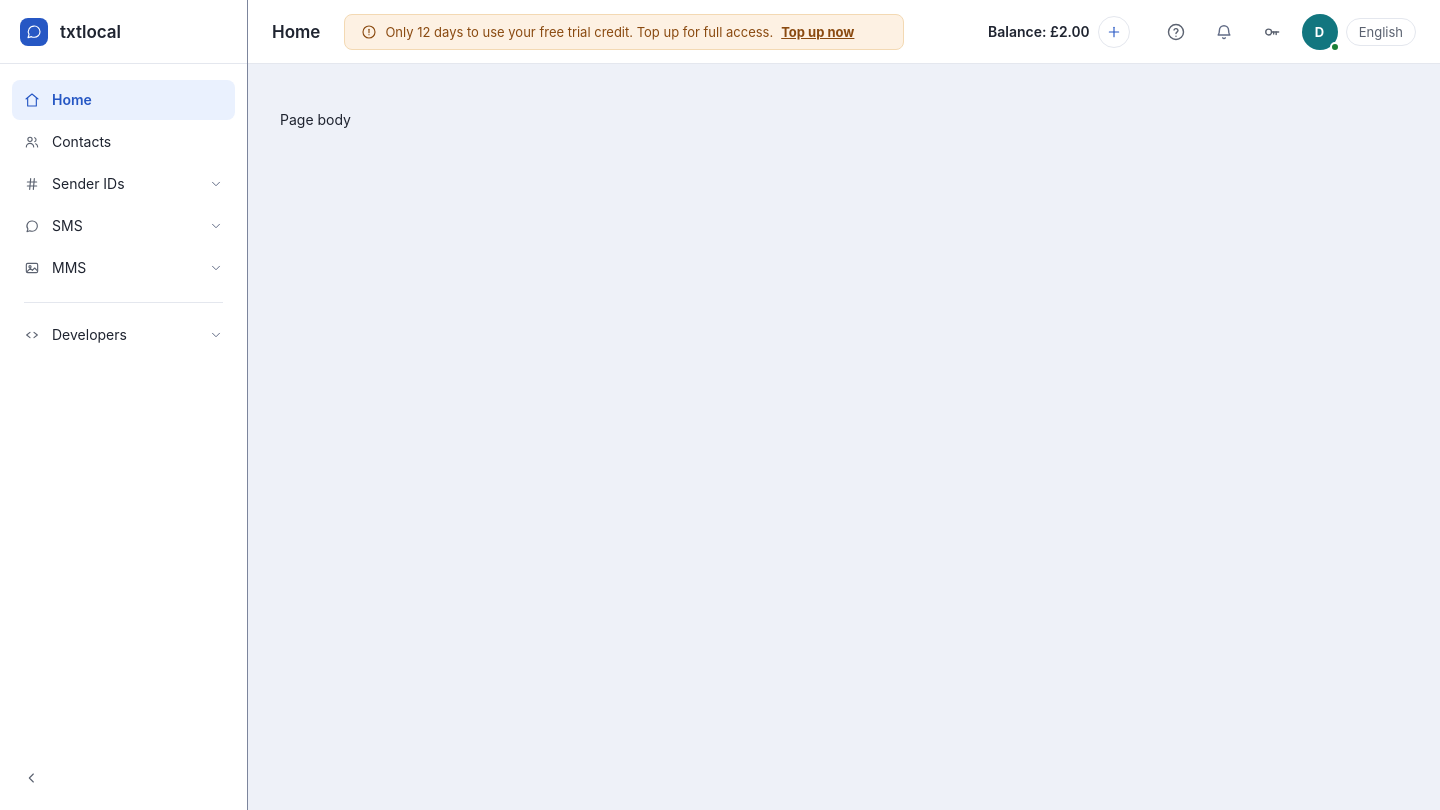
AvatarMenu › closes the avatar menu when the user clicks elsewhere
The width and height of the screenshot is (1440, 810).
Click the heading named "Account menu".
click(1320, 32)  # box 1302,14 -> 1338,50
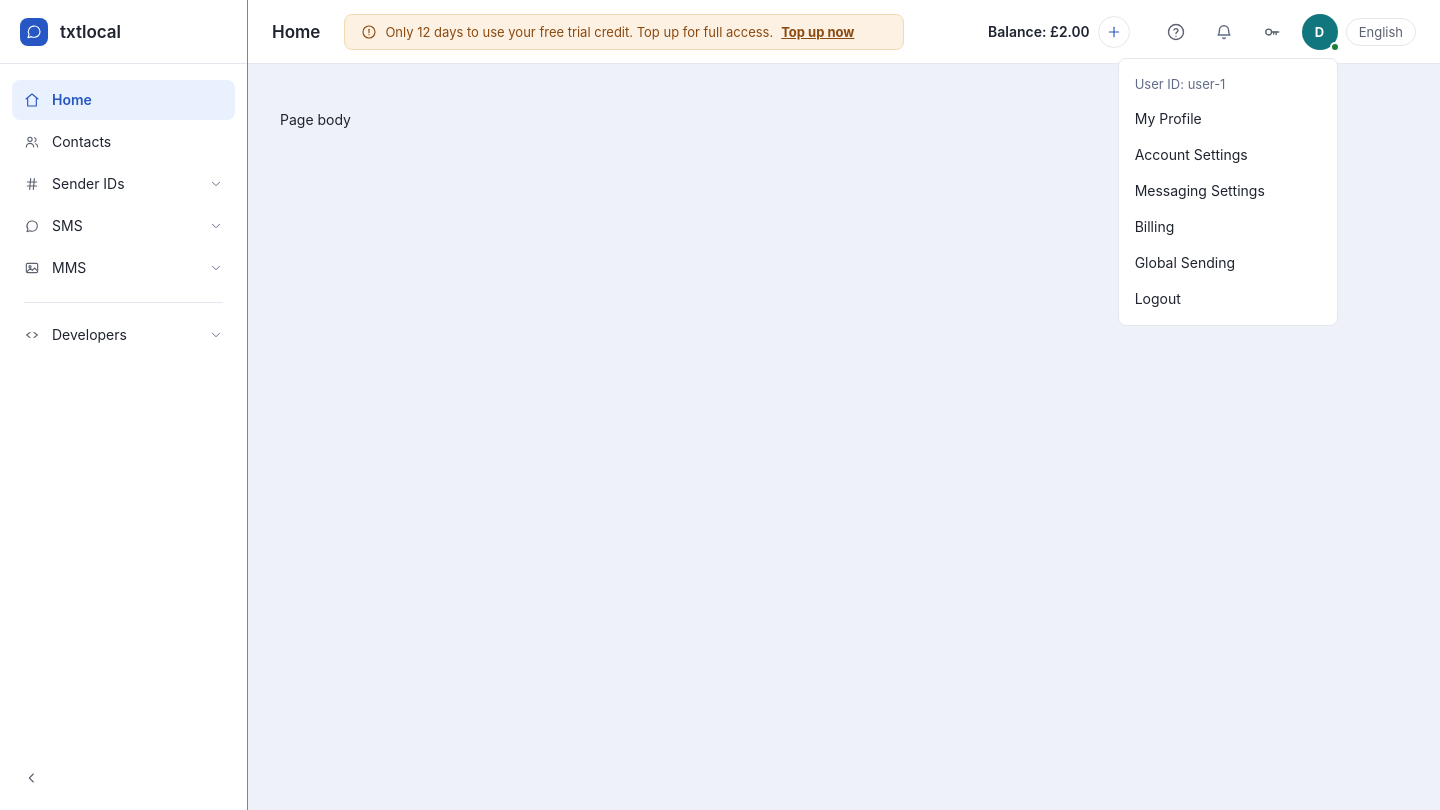
Click the text "Page body".
click(316, 120)  # box 280,111 -> 351,128
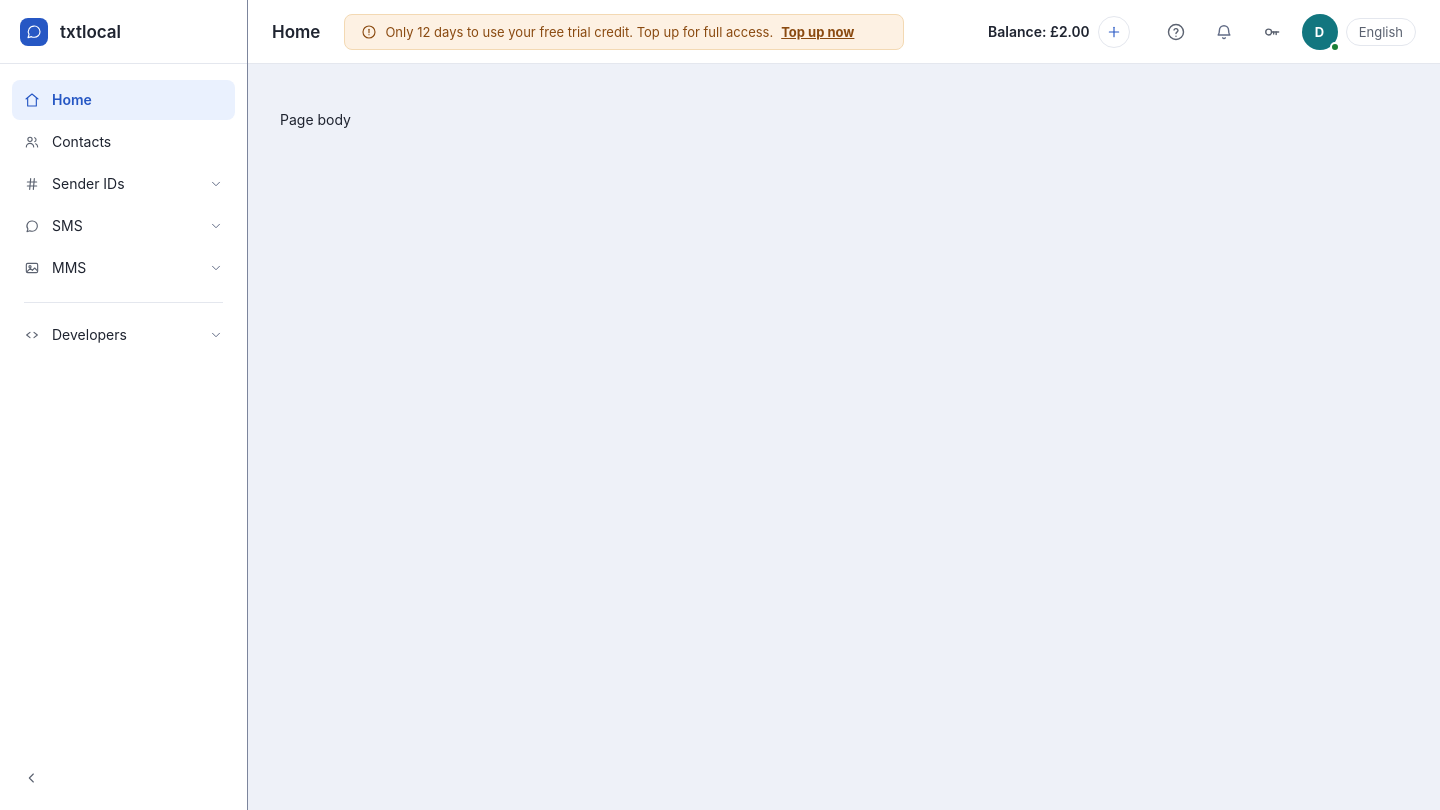
Expected: the link "My Profile" is gone
